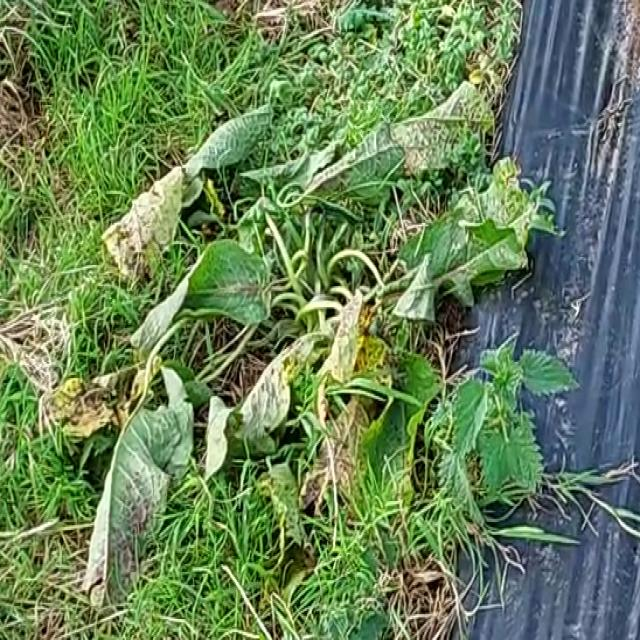organic waste: (70, 90, 509, 608)
